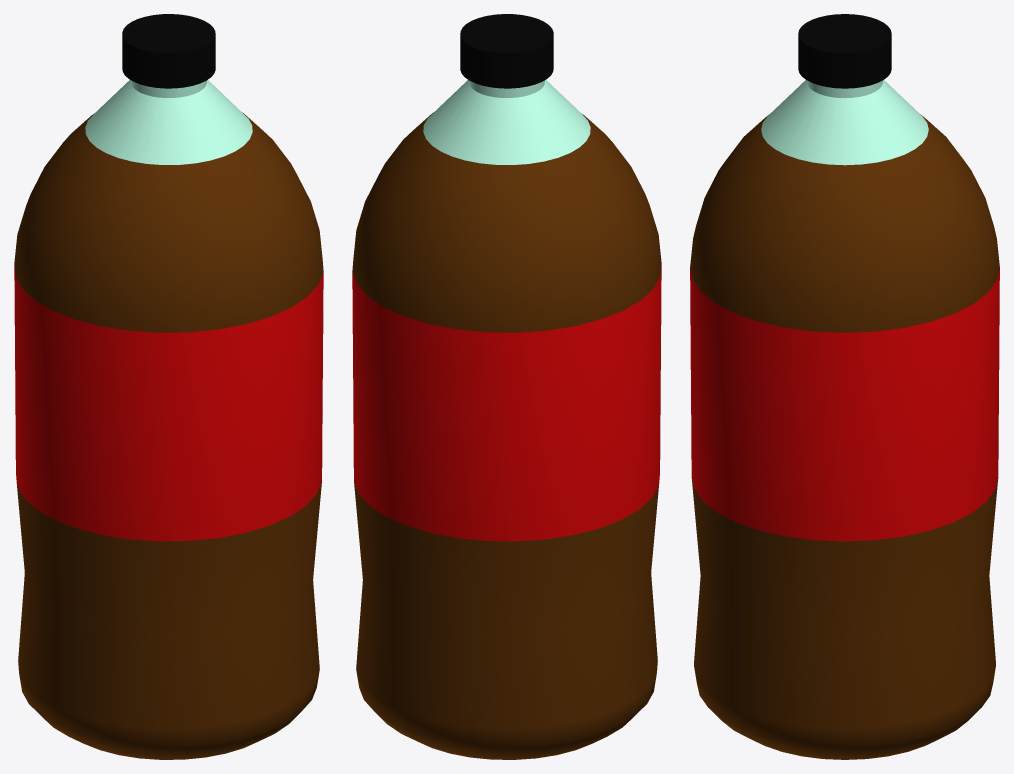
Rendered from soda.fbx.
The picture shows the model from 3 angles, left to right: view 1: azimuth 30°, elevation 25°; view 2: azimuth 150°, elevation 25°; view 3: azimuth 270°, elevation 25°; orthographic projection.
Visible parts, largest first — view 1: Sphere, Cylinder, Cylinder.001; view 2: Sphere, Cylinder, Cylinder.001; view 3: Sphere, Cylinder, Cylinder.001.
Boxes of the visible parts, x1,y1,x2,y2 form: Sphere: [14, 112, 323, 759]; Cylinder: [85, 80, 252, 164]; Cylinder.001: [122, 14, 215, 88]; Sphere: [352, 112, 661, 759]; Cylinder: [423, 80, 590, 164]; Cylinder.001: [460, 14, 553, 88]; Sphere: [690, 115, 999, 759]; Cylinder: [761, 80, 928, 165]; Cylinder.001: [798, 14, 891, 88].
Bounding box in the file's own units: 251 × 618 × 251.
